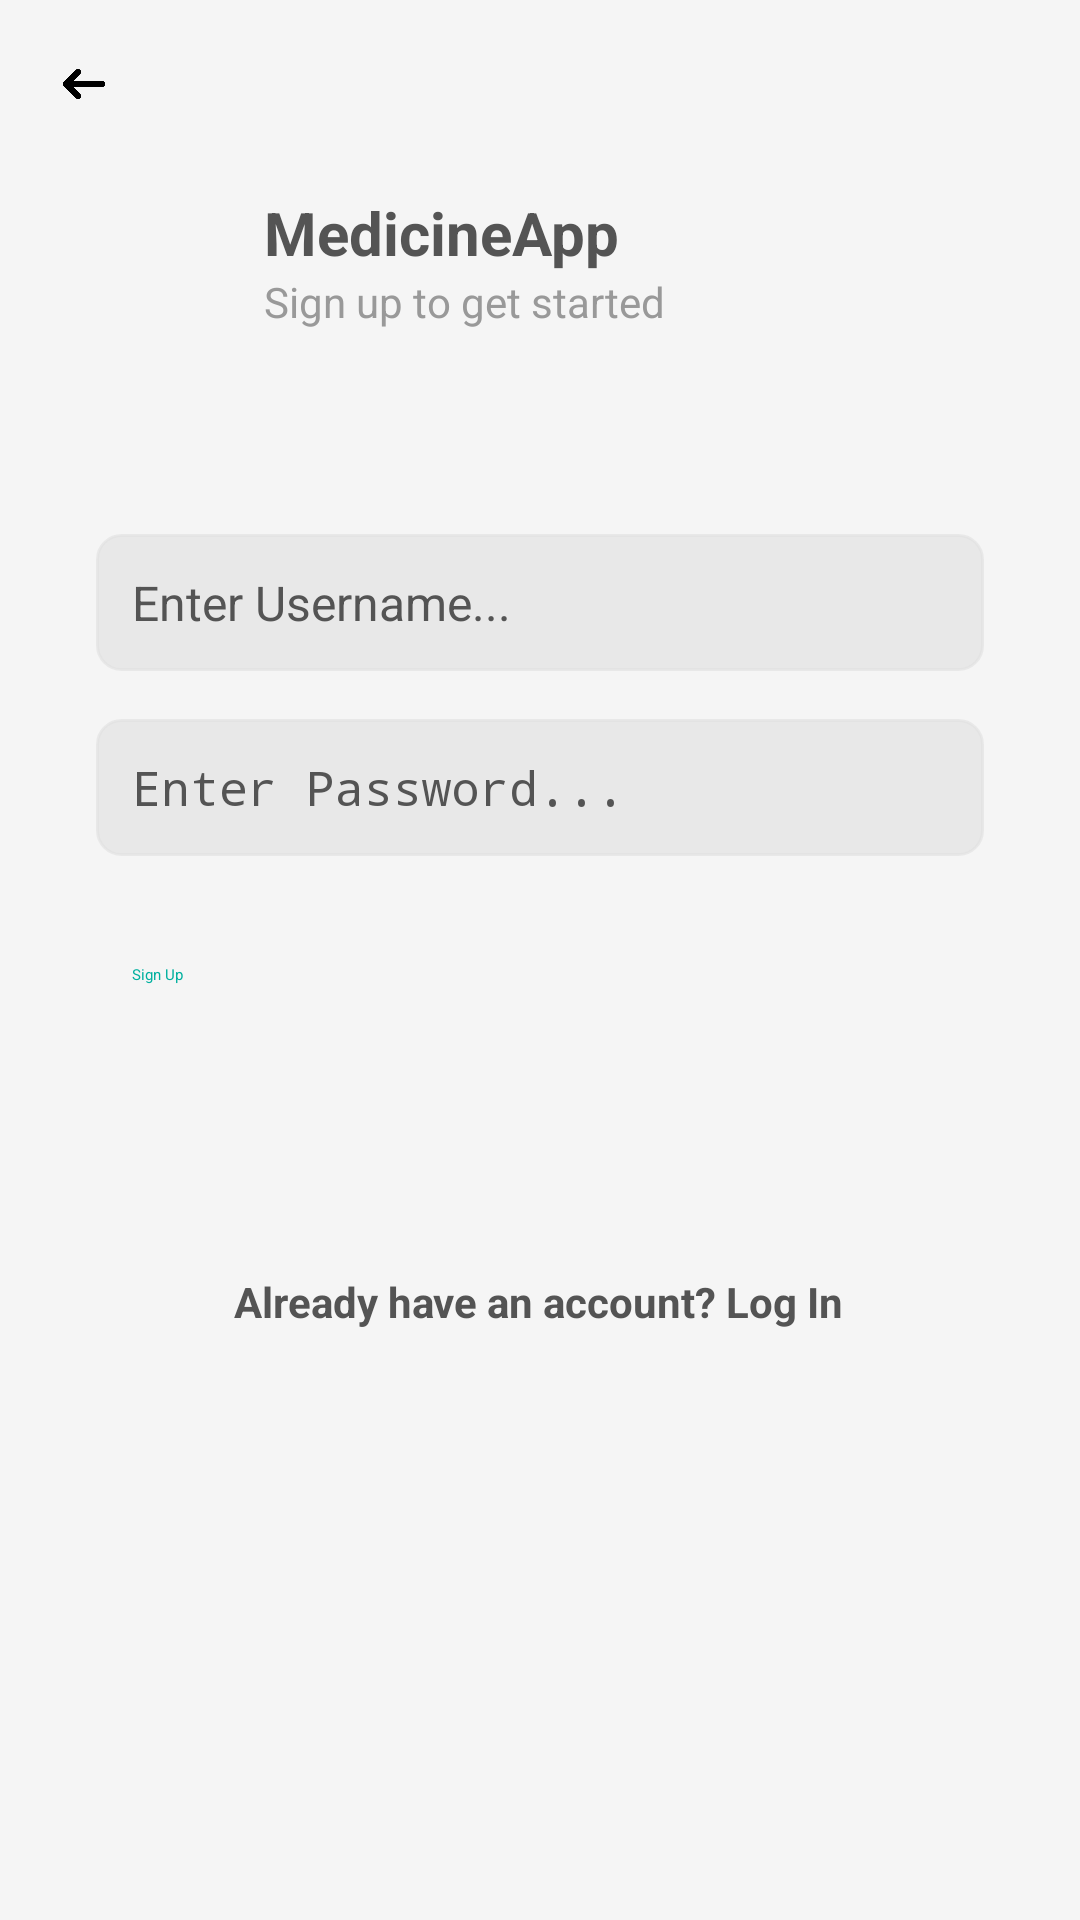

Screen size 1080*1920. Icon name, then its center in pixels as point (x, y):
Back to Main Fragment: point (84, 84)
